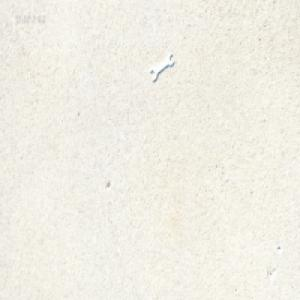Wrench: (149, 52, 173, 82)
